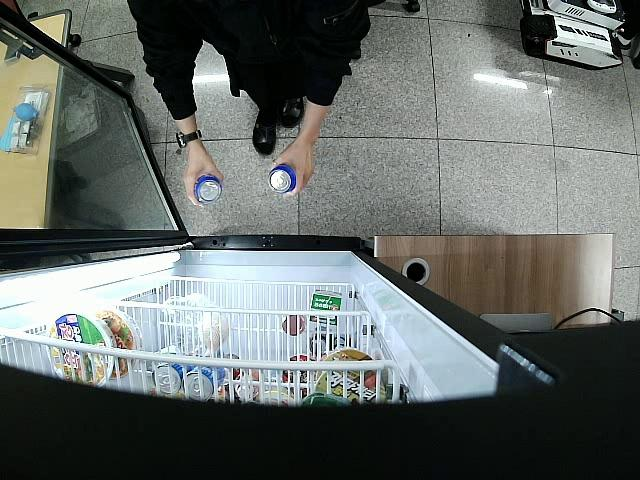00_hand: (269, 138, 313, 199), (183, 145, 225, 207)
13_pocariSweat: (266, 165, 297, 195), (193, 174, 222, 205)
